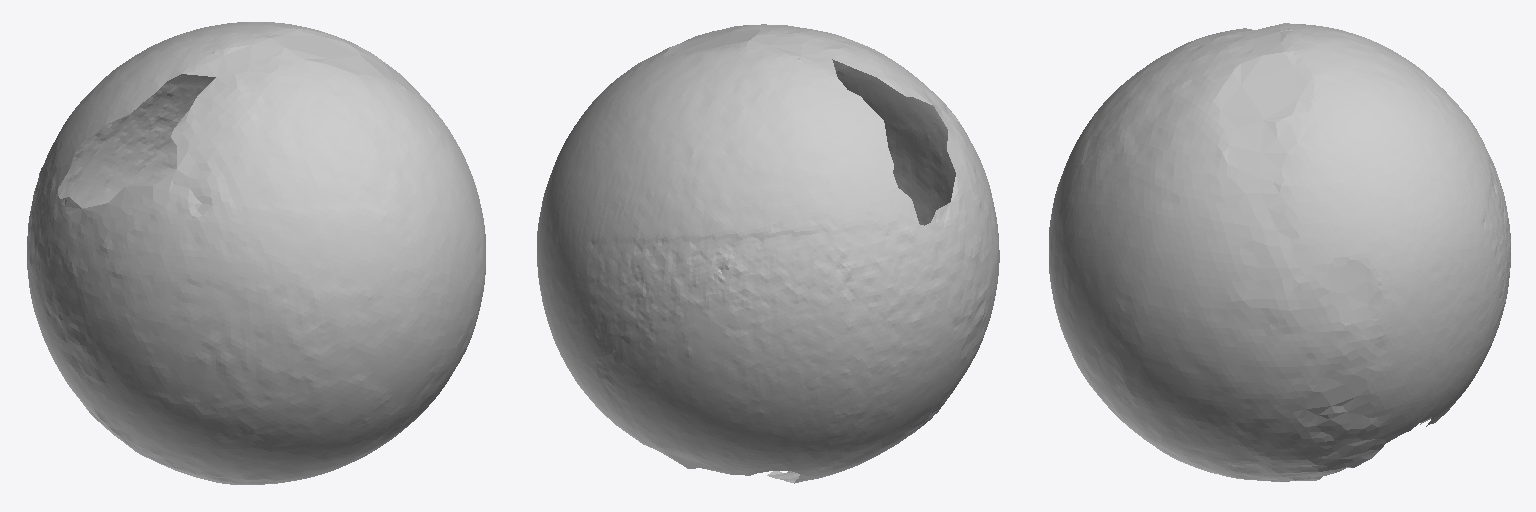
The model's file is Gridtest_2_3_2.000001.obj.
3 renders of one model, left to right at view 1: azimuth 30°, elevation 25°; view 2: azimuth 150°, elevation 25°; view 3: azimuth 270°, elevation 25°, orthographic.
Bounding box in the file's own units: 299 × 304 × 300.